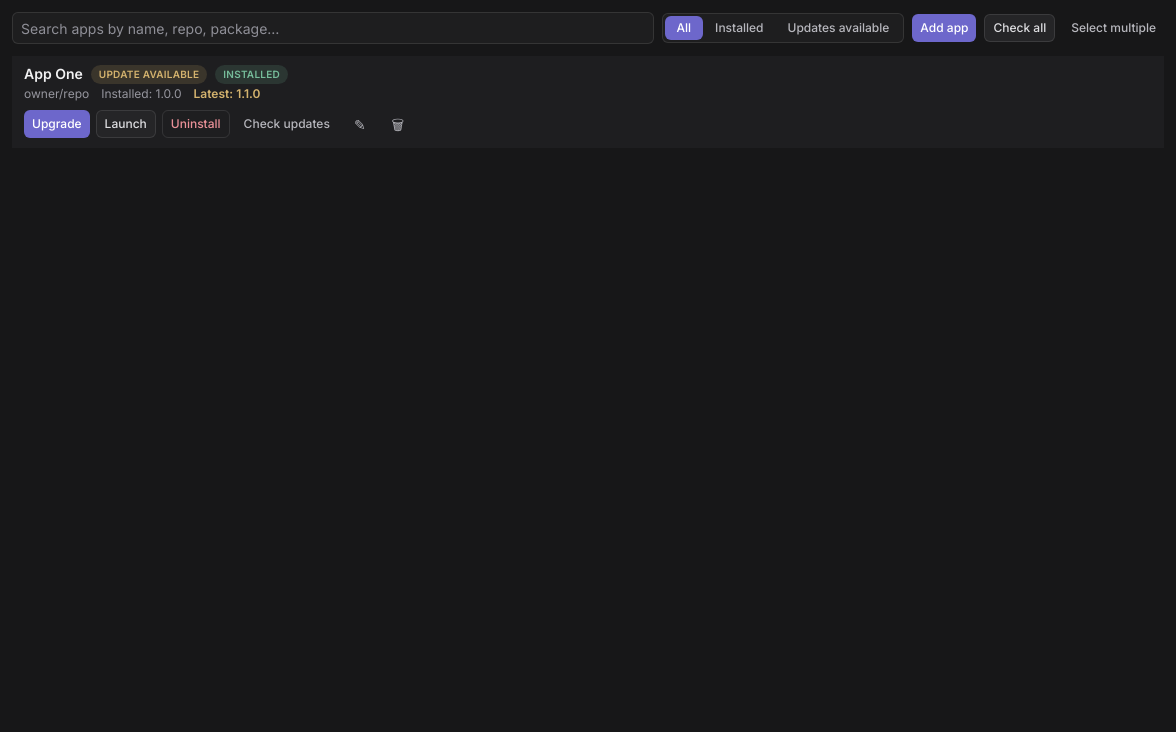
check all updates › reports success when every item was checked
Click the button "Check all". click: [1020, 28]
box: [984,14,1055,42]
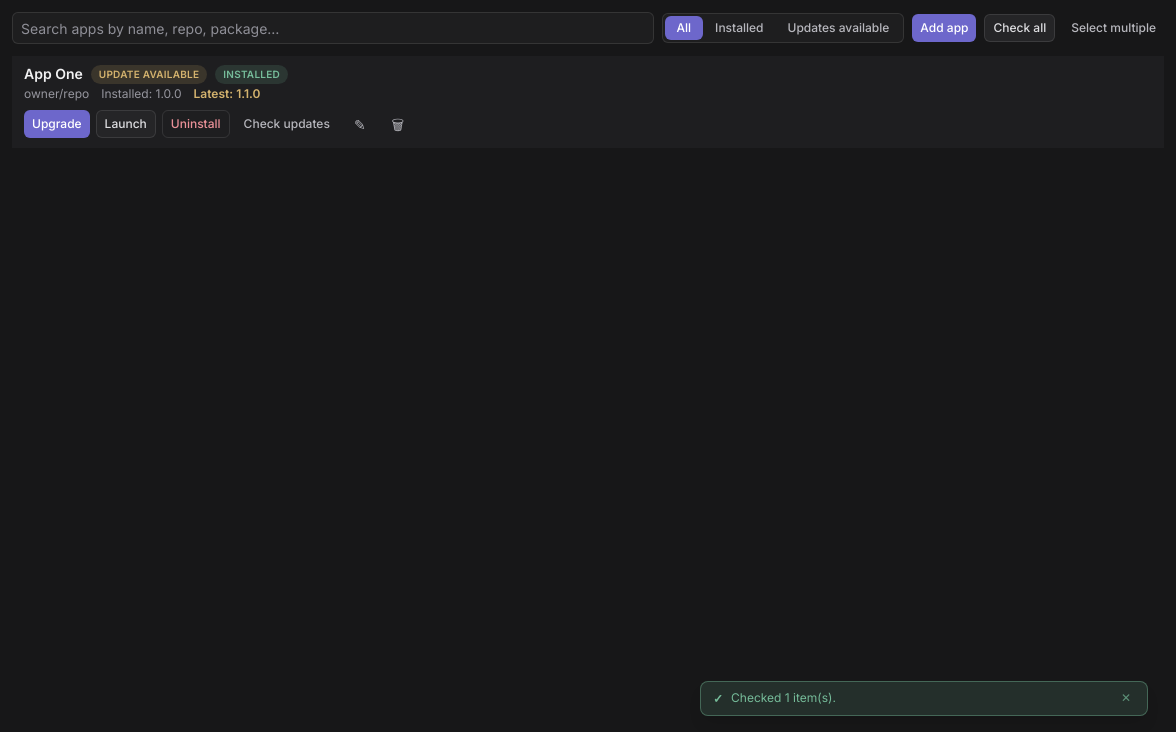
Expected: the message shows "Checked 1 item(s).", [731,690,836,705]
